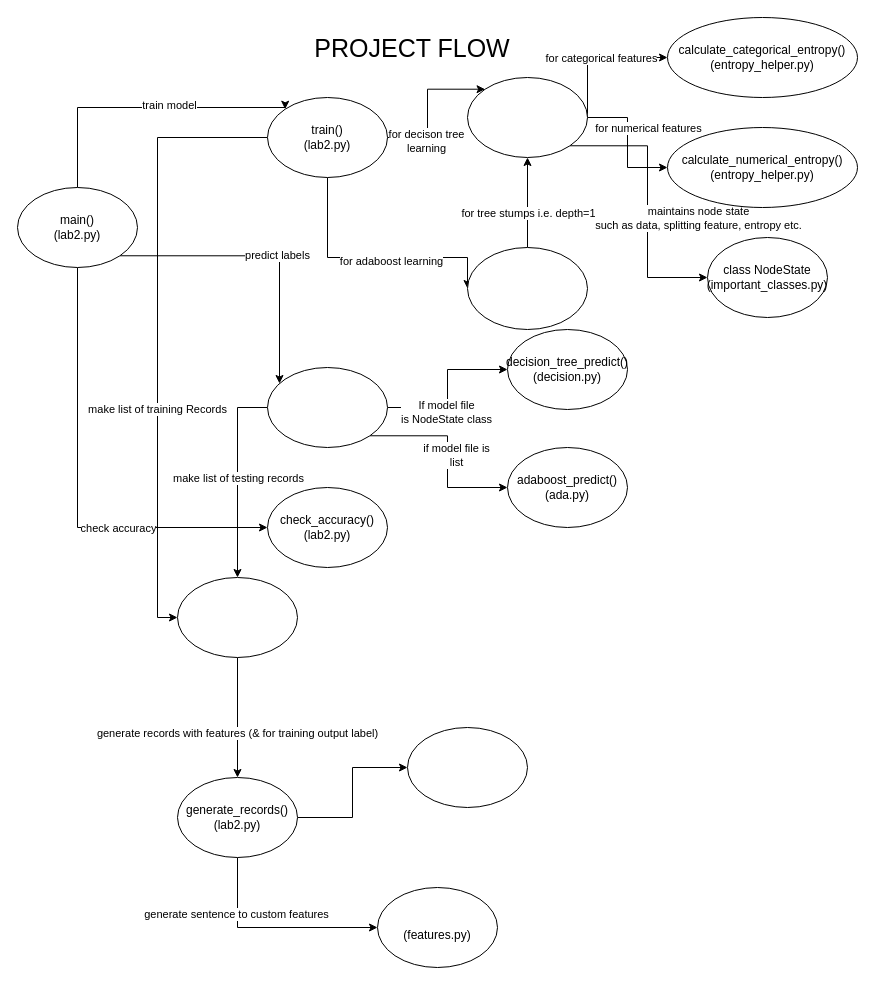
This 875x985 diagram has some shape labels left out. The shapes that lost their labels are listed below. From the top down, each one's centre as x and y in pixels, then its label:
pixel 527 117: decision_tree_train() (decision.py)
pixel 527 288: adaboost_train() (ada.py)
pixel 327 407: predict() (lab2.py)
pixel 237 617: fill_tables() (lab2.py)
pixel 467 767: class Record (important_classes.py)
